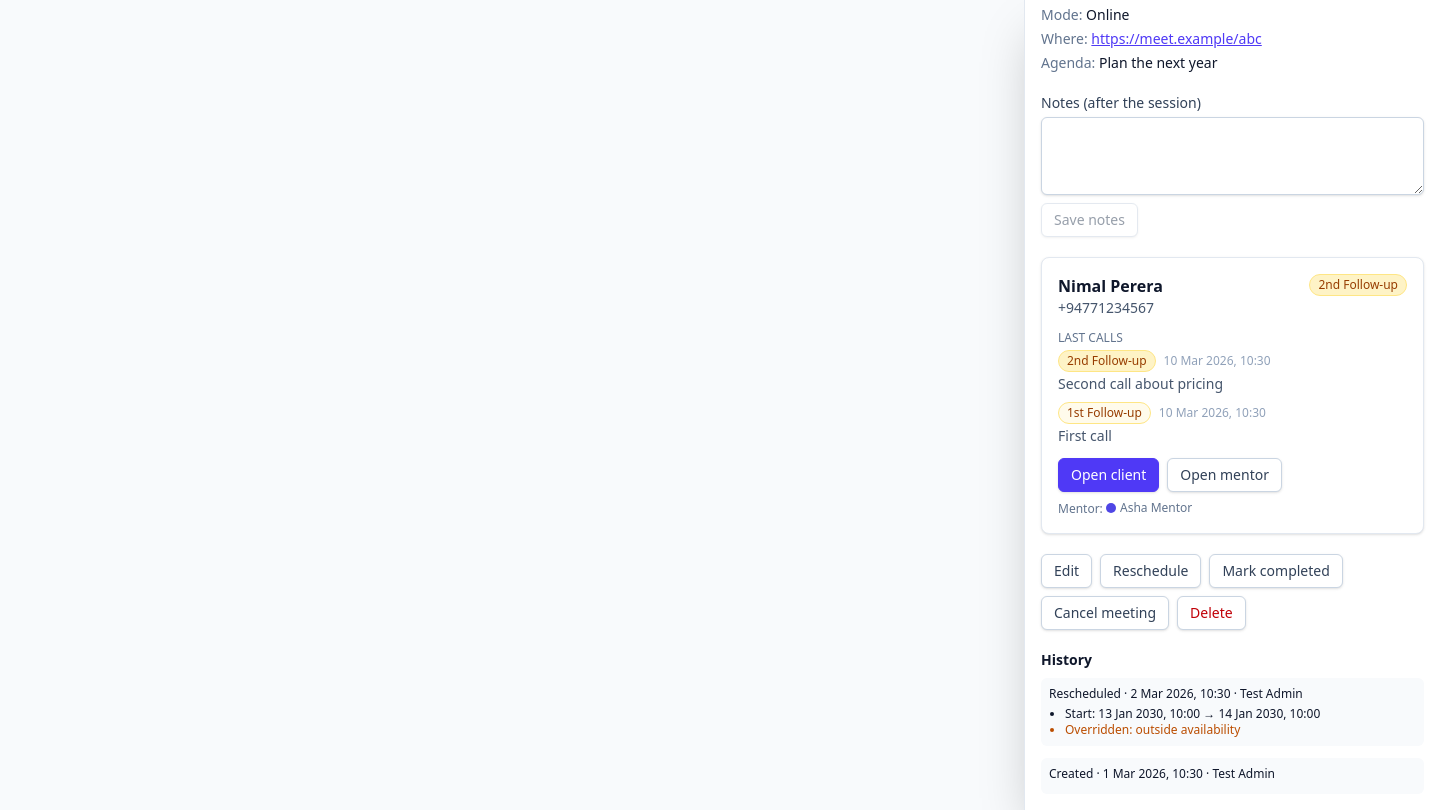
it: Meeting details panel › Cancel meeting asks first, then sets status cancelled (and says the client status is untouched)
The image size is (1440, 810).
(page scrolled)
Click the button "Cancel meeting".
click(1105, 613)  # box [1041,596,1169,630]
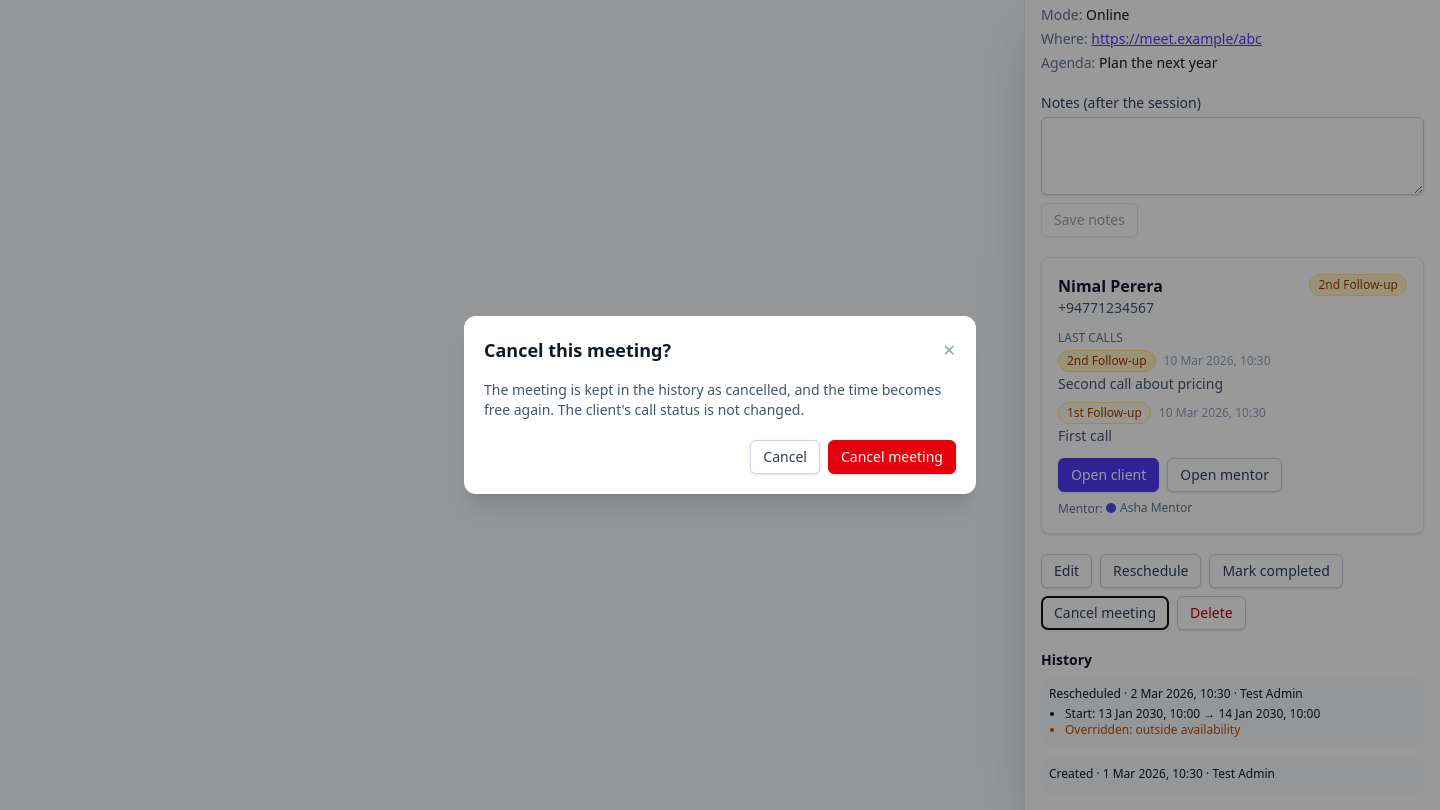
Check: the dialog "Cancel this meeting?" shows "client's call status is not changed", box [484,380,941,419]
Click the button "Cancel meeting".
click(892, 457)  # box [828,440,956,474]
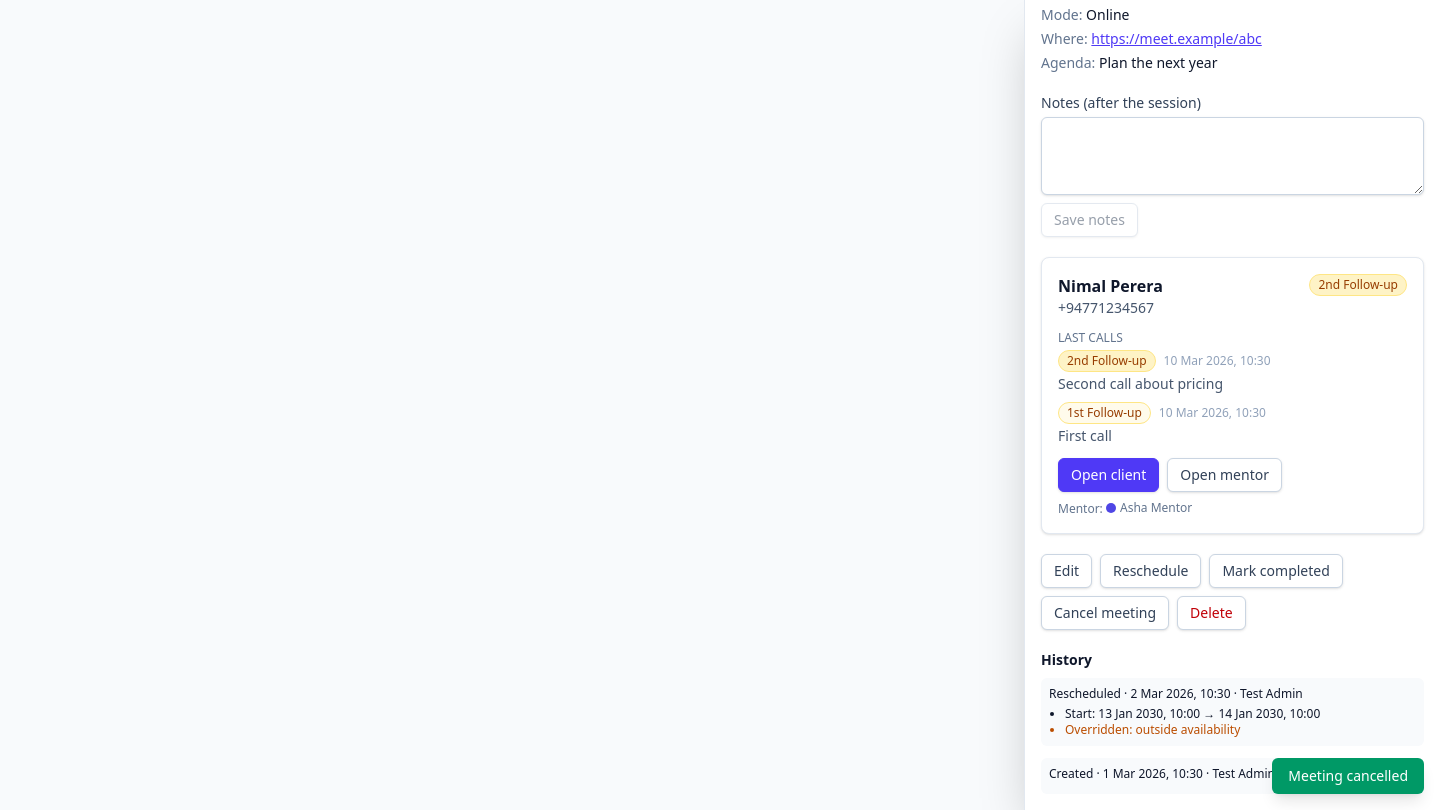
Check: the text "Meeting cancelled" is shown, box [1272,758,1424,794]
